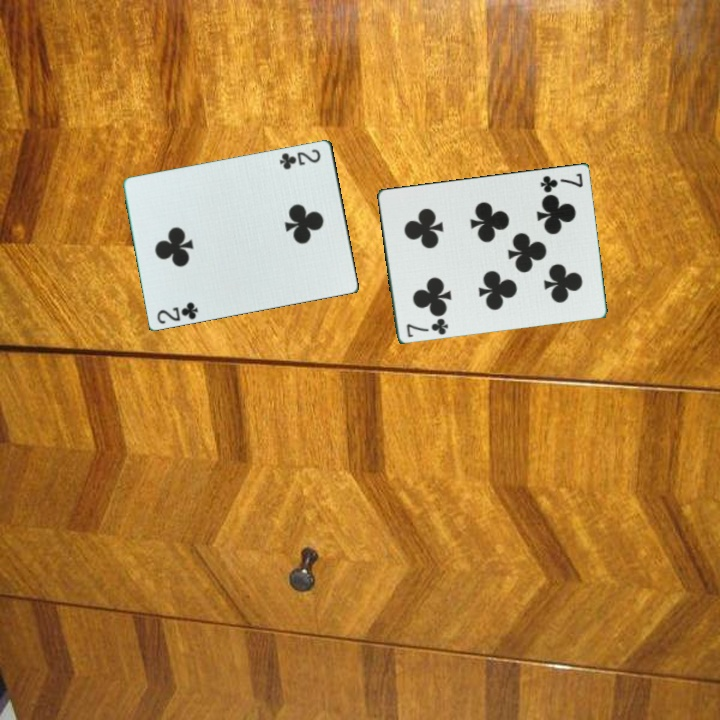2c: (154, 298, 201, 327), (276, 145, 324, 172)
7c: (403, 315, 451, 341), (536, 170, 585, 193)
